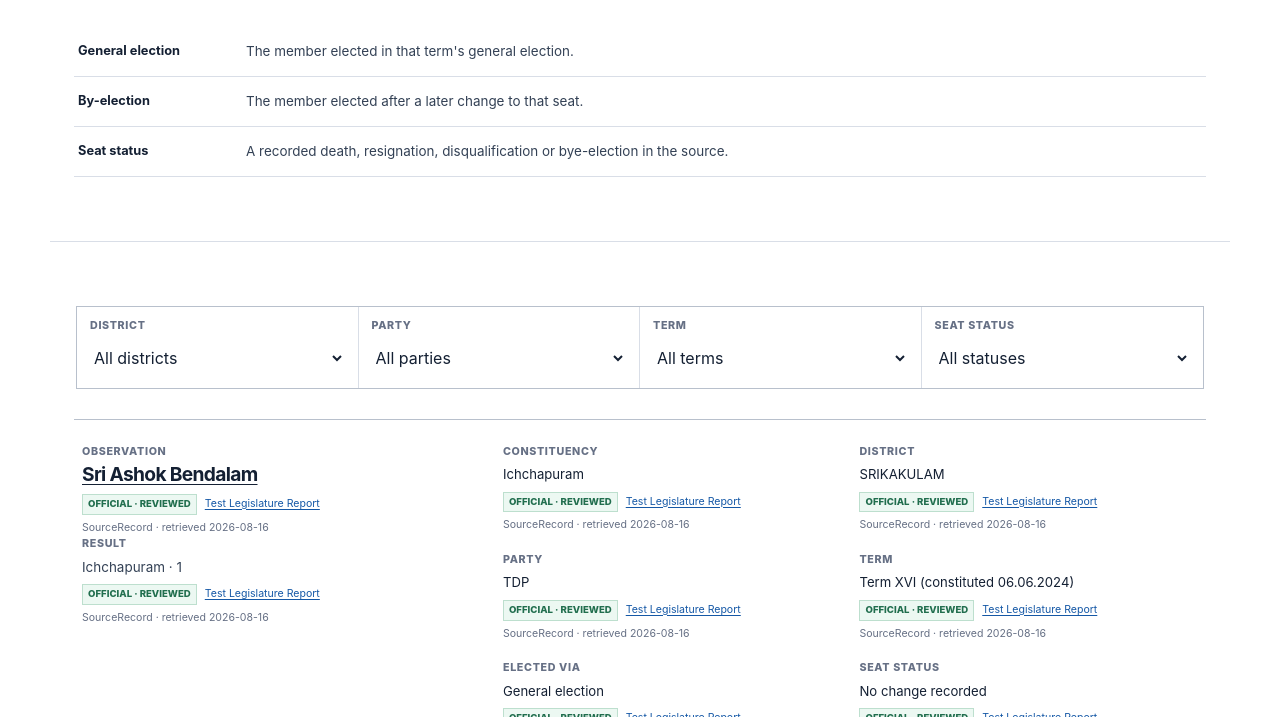
Test: ElectionResultsDirectory › renders bilingual claims, seat status and all native filters
(page scrolled)
Check: the heading "Sri Ashok Bendalam" is shown, box [82,462,258,486]
Check: the text "No change recorded" is shown, box [860,682,987,698]
Select "SRIKAKULAM" in the dropdown labelled "District": (217, 358) [90,339,344,377]
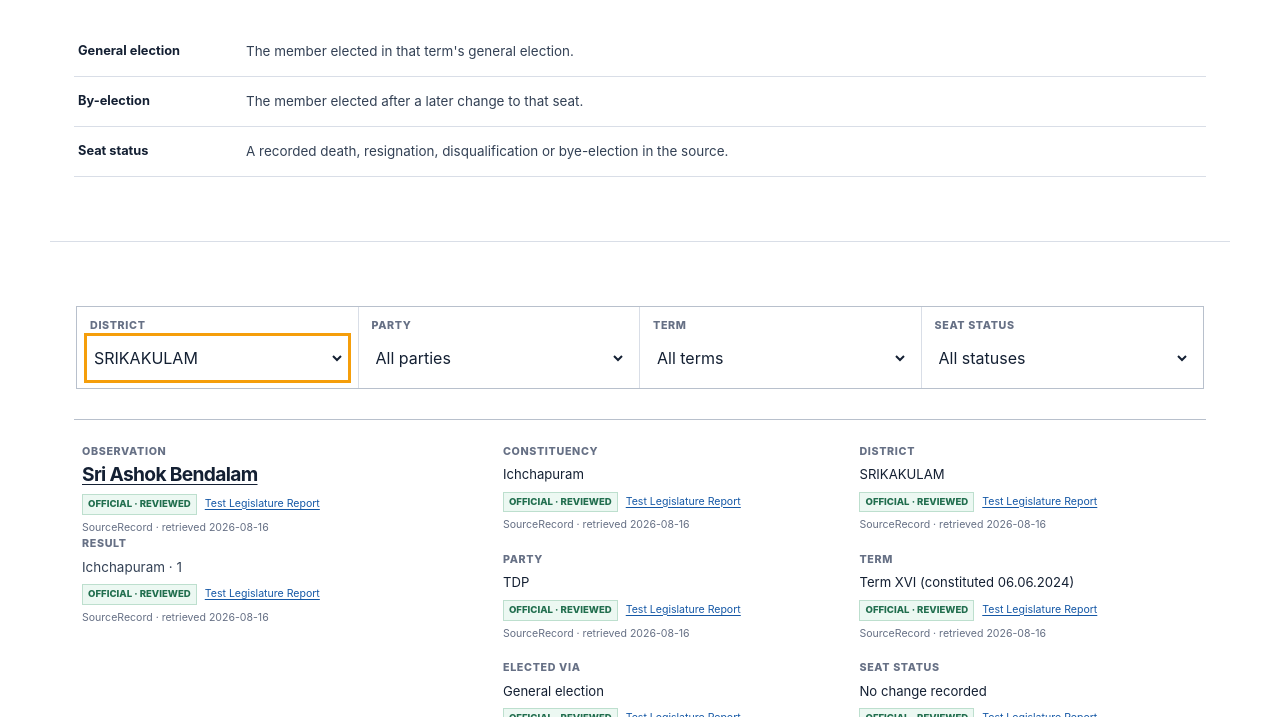
Select "TDP" in the dropdown labelled "Party": (499, 358) [372,339,626,377]
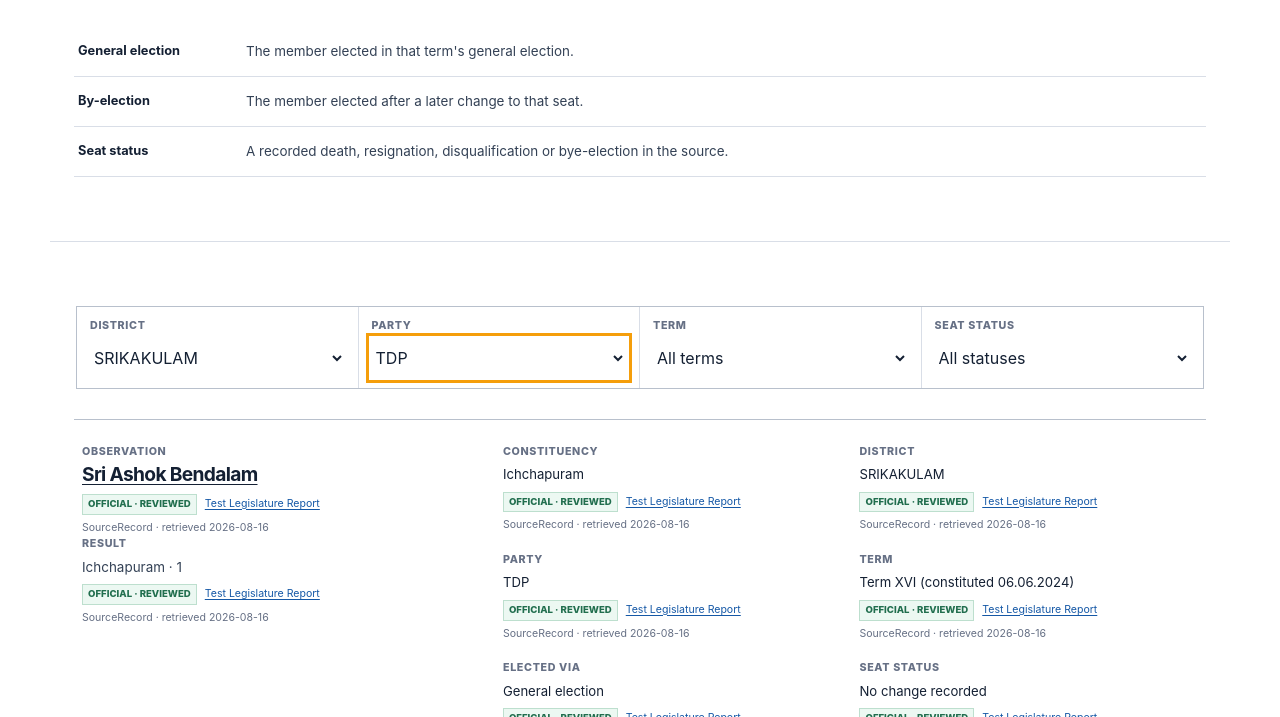
Select "Term XVI (constituted 06.06.2024)" in the dropdown labelled "Term": (780, 358) [653,339,908,377]
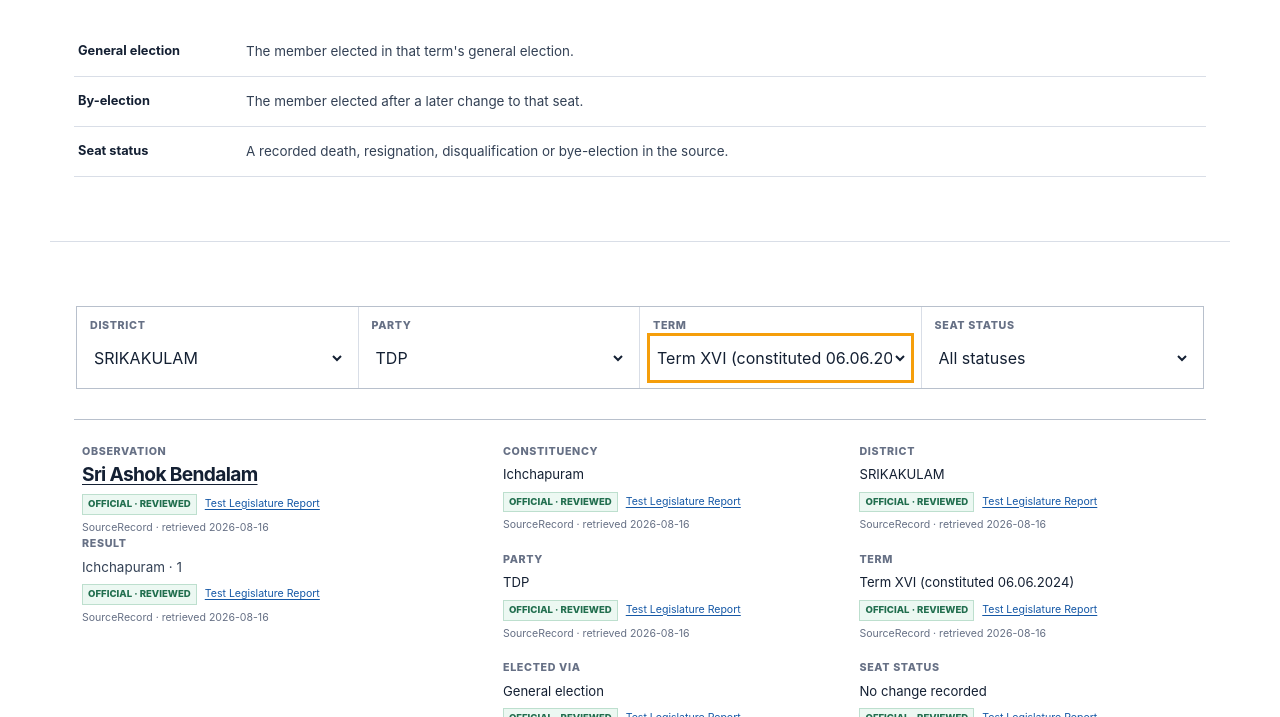
Select "All statuses" in the dropdown labelled "Seat status": (1062, 358) [934,339,1190,377]
(page scrolled)
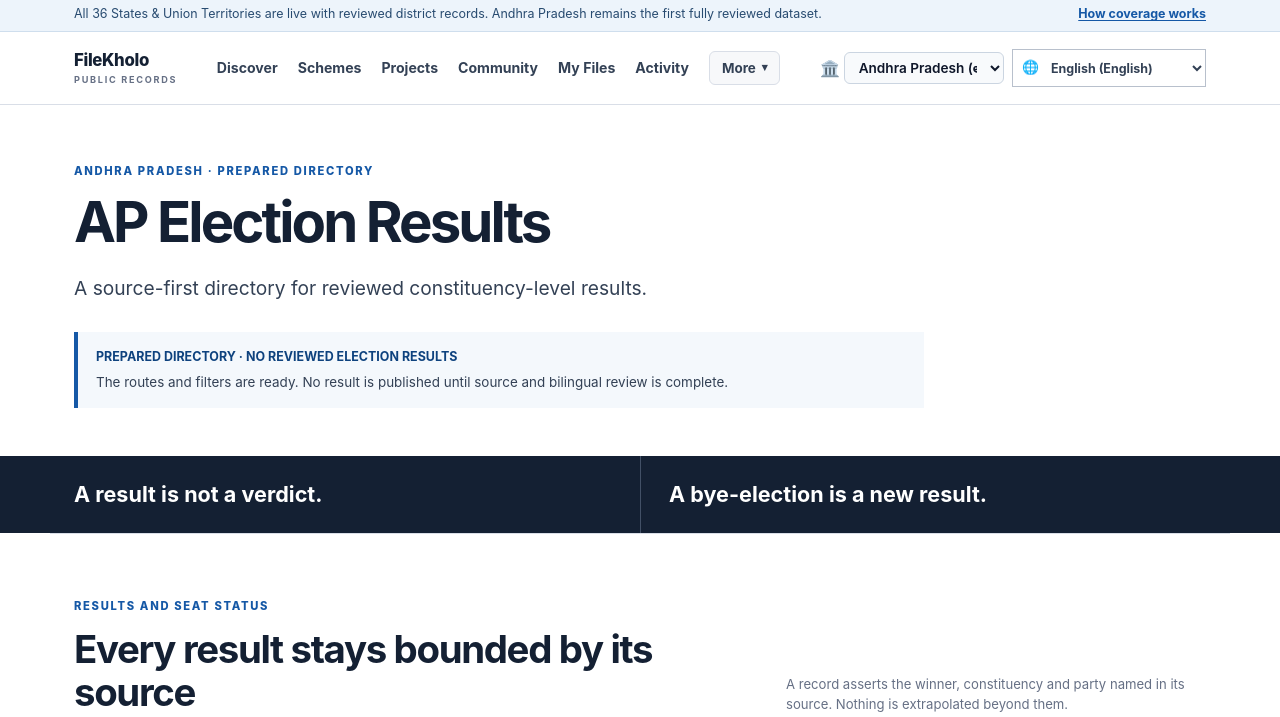
Select "తెలుగు (Telugu)" in the dropdown named "Select language": (1122, 68) [1039,50,1205,86]
(page scrolled)
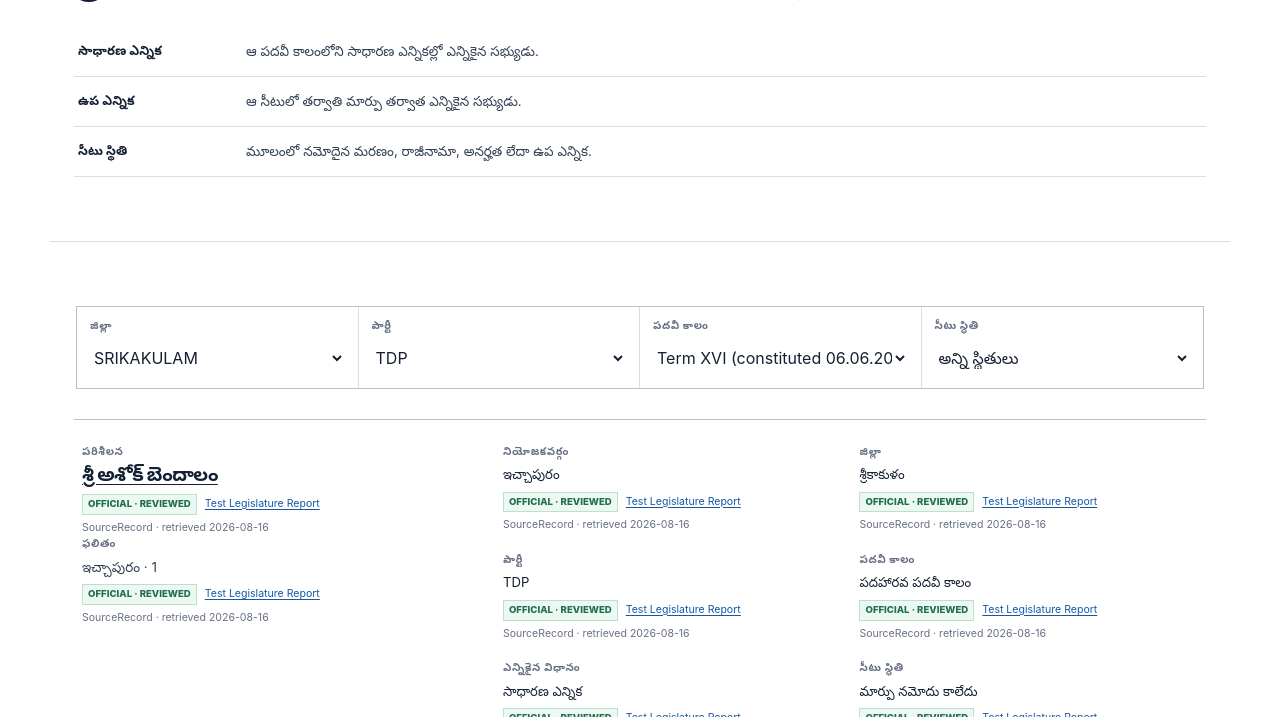
Check: the heading "శ్రీ అశోక్ బెందాలం" is shown, box [82,462,218,486]
